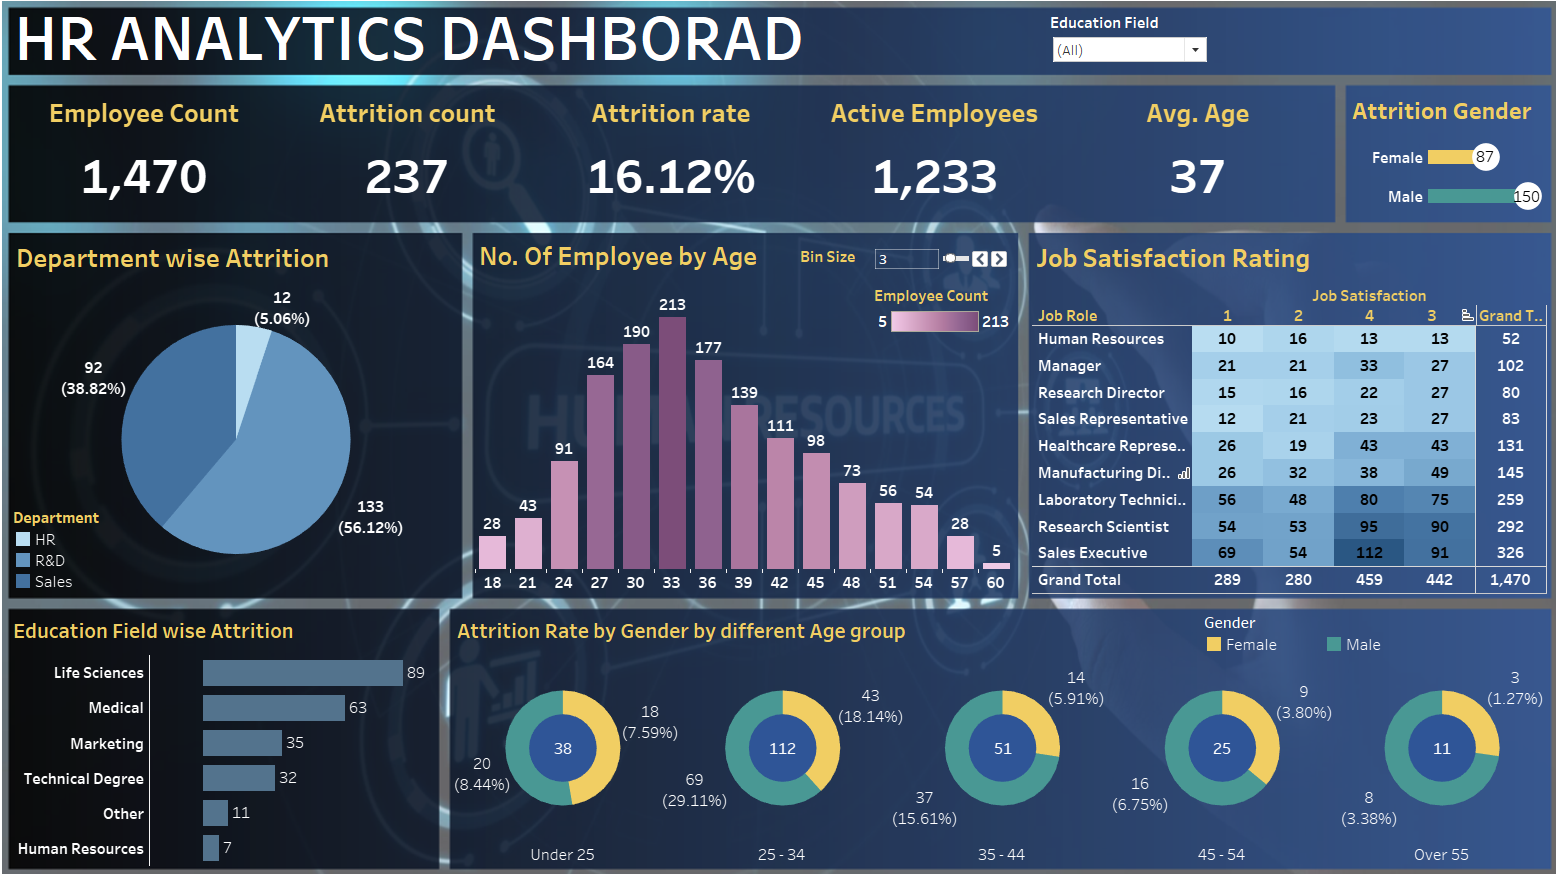

What the dashboard file says about the page in this screenshot:
{"tool":"tableau","page":{"name":"HR ANALYTICS","canvas":[1580,900],"ordinal":0},"visuals":[{"type":"text","box":[21,3,917,88]},{"type":"image","param":"C:/Users/DELL/OneDrive/SYLLABUS/Interview Prep/Tableau Project/HR background.ppt","box":[8,8,1564,884]},{"type":"filter","title":"Education Field wise Attrition","param":"[federated.1hjftip1rb1du11dpxars17ywez6].[none:Education Field:nk]","box":[1060,23,160,54]},{"type":"worksheet","title":"KPI","mark":"Automatic","box":[22,100,1318,130]},{"type":"worksheet","title":"Attrition Gender","mark":"Automatic","rows":["Gender"],"cols":["Calculation_832321569331023872","Calculation_832321569331023872"],"box":[1358,101,199,126]},{"type":"worksheet","title":"No. Of Employee by Age","mark":"Automatic","rows":["Employee Count"],"cols":["Age (bin)"],"box":[485,245,539,360]},{"type":"worksheet","title":"Department wise Attrition","mark":"Pie","box":[22,247,448,358]},{"type":"worksheet","title":"Job Satisfaction Rating","mark":"Square","rows":["Job Role"],"cols":["Job Satisfaction"],"box":[1042,247,516,358]},{"type":"parameter","param":"[Parameters].[Parameter 1]","box":[810,257,210,31]},{"type":"legend","title":"No. Of Employee by Age","param":"[federated.1hjftip1rb1du11dpxars17ywez6].[sum:Employee Count:qk]","box":[884,296,140,86]},{"type":"legend","title":"Department wise Attrition","param":"[federated.1hjftip1rb1du11dpxars17ywez6].[none:Department:nk]","box":[23,518,140,85]},{"type":"worksheet","title":"Education Field wise Attrition","mark":"Automatic","rows":["Education Field"],"cols":["Calculation_832321569331023872"],"box":[19,623,426,254]},{"type":"worksheet","title":"Attrition Rate by Gender by different Age group","mark":"Pie","rows":["Calculation_968555459261673473","Calculation_968555459261673473"],"cols":["CF_age band"],"box":[463,623,1099,254]},{"type":"legend","title":"Attrition Rate by Gender by different Age group","param":"[federated.1hjftip1rb1du11dpxars17ywez6].[none:Gender:nk]","box":[1214,623,309,49]}]}

Visuals, with their boxes in screenshot pixels (x1, y1, x2, y2), scaled from the page's 1580x900 canvas onto the 1556x874 screenshot:
text: box(21, 3, 924, 88)
image: box(8, 8, 1548, 866)
"Education Field wise Attrition" filter: box(1044, 22, 1201, 75)
"KPI" worksheet: box(22, 97, 1320, 223)
"Attrition Gender" worksheet: box(1337, 98, 1533, 220)
"No. Of Employee by Age" worksheet: box(478, 238, 1008, 588)
"Department wise Attrition" worksheet (Pie marks): box(22, 240, 463, 588)
"Job Satisfaction Rating" worksheet (Square marks): box(1026, 240, 1534, 588)
parameter: box(798, 250, 1005, 280)
"No. Of Employee by Age" legend: box(871, 287, 1008, 371)
"Department wise Attrition" legend: box(23, 503, 161, 586)
"Education Field wise Attrition" worksheet: box(19, 605, 438, 852)
"Attrition Rate by Gender by different Age group" worksheet (Pie marks): box(456, 605, 1538, 852)
"Attrition Rate by Gender by different Age group" legend: box(1196, 605, 1500, 653)
